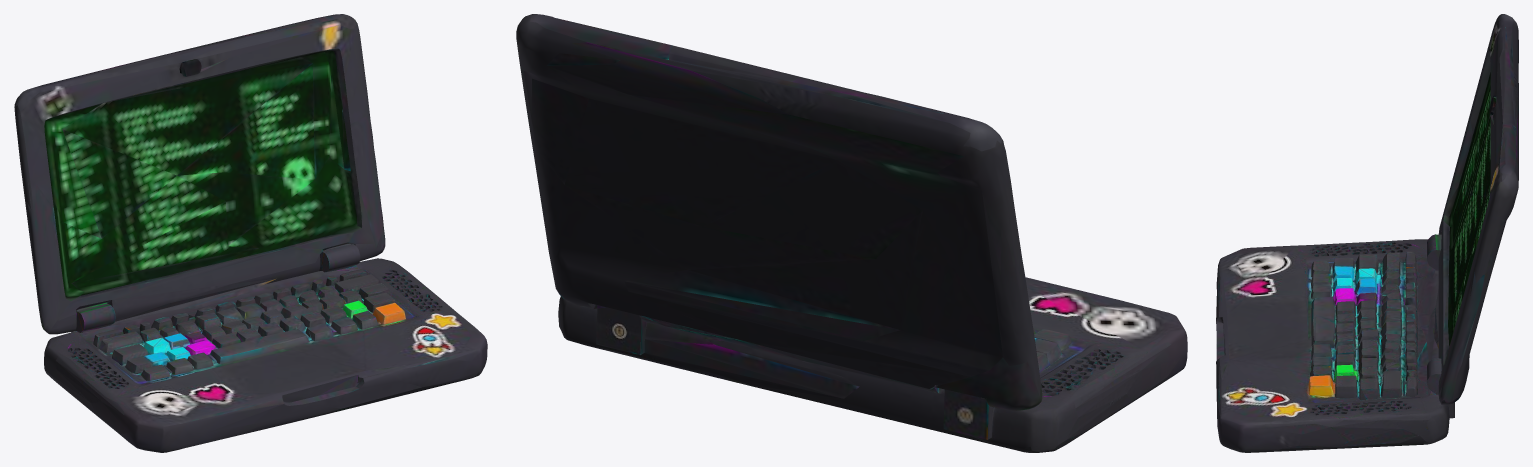
File: laptop.glb
The picture shows the model from 3 angles, left to right: view 1: azimuth 30°, elevation 25°; view 2: azimuth 150°, elevation 25°; view 3: azimuth 270°, elevation 25°; orthographic projection. The views are drawn at different scales.
Size of the model in its own units: 1.9 by 1.36 by 1.36.
Materials: 1 (1 with a texture image).
